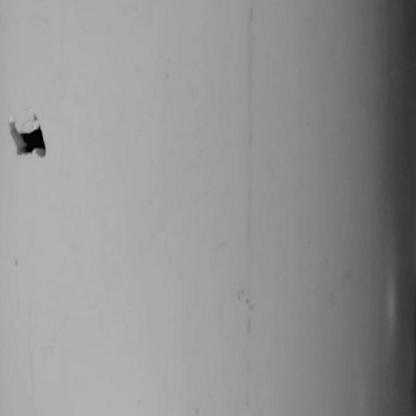kongdong: (1, 110, 60, 158)
